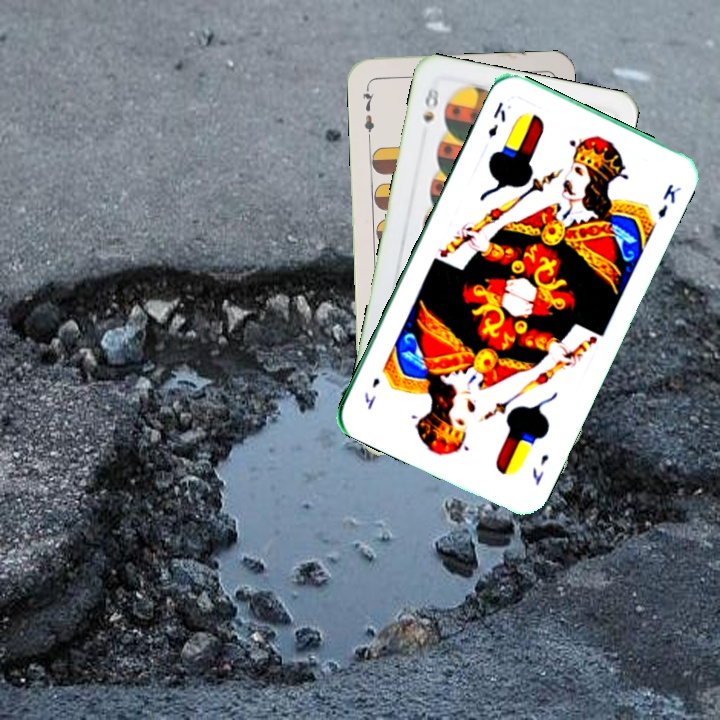E7: (358, 82, 377, 141)
EK: (483, 97, 509, 140), (528, 450, 552, 488)
S8: (419, 83, 442, 125)
